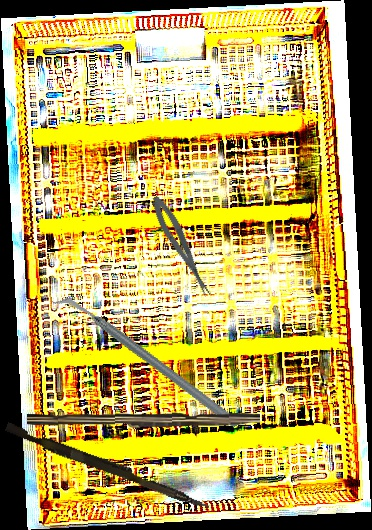Chopper: (51, 248, 243, 476)
Micro Scissor: (147, 192, 215, 301)
Pusher: (3, 422, 213, 511)
Scalpel Handle: (26, 409, 261, 433)
